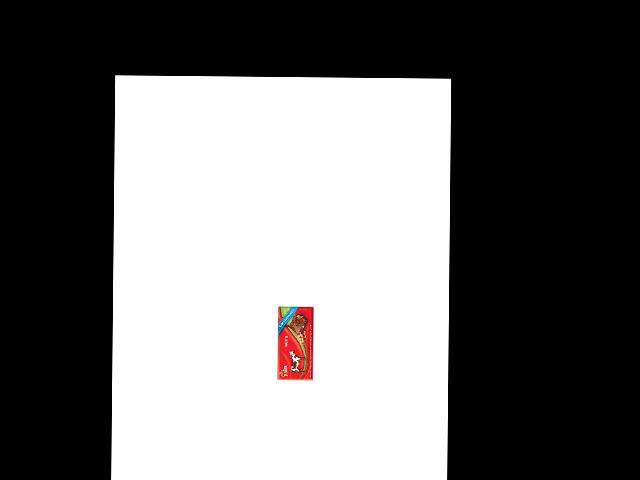chocolate: (277, 307, 312, 383)
